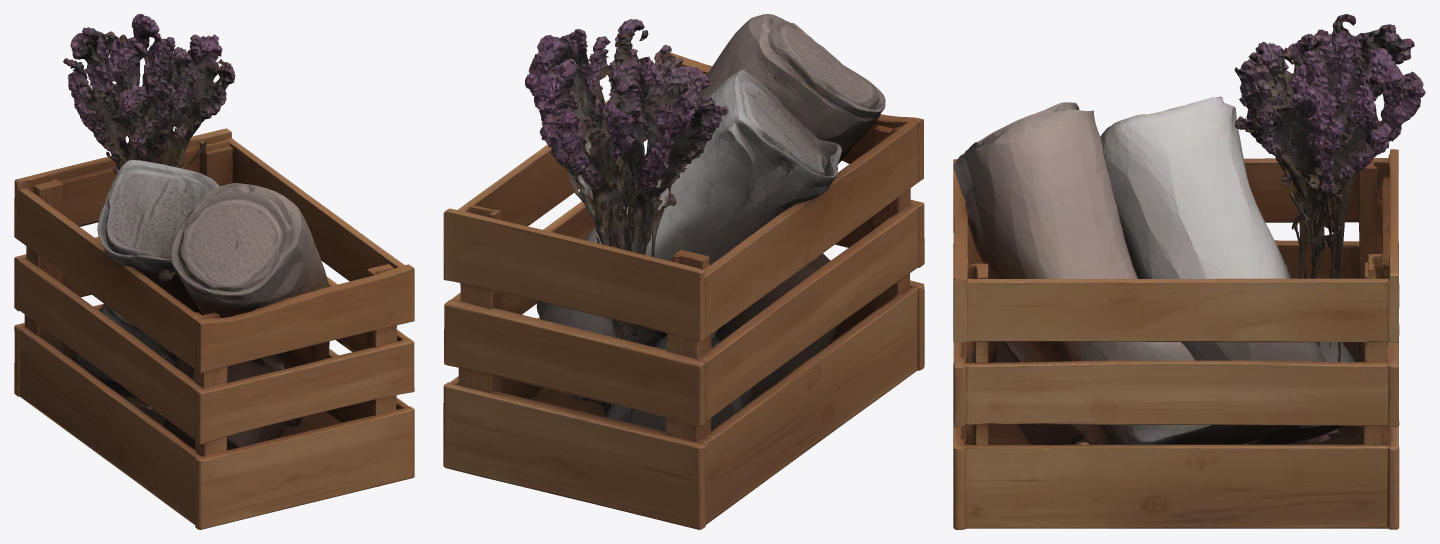
The model's file is e857e49a-ad07-467d-8657-8ecb37022001.glb.
3 views of the same model, side by side, from view 1: azimuth 30°, elevation 25°; view 2: azimuth 150°, elevation 25°; view 3: azimuth 270°, elevation 25° (orthographic). The views are drawn at different scales.
Parts seen in each view (by area): view 1: world; view 2: world; view 3: world.
Part boxes in pixels (left/top/right/bottom): world: left=14, top=14, right=414, bottom=529; world: left=443, top=14, right=924, bottom=529; world: left=953, top=14, right=1425, bottom=529.
Bounding box in the file's own units: 0.6591 × 0.9965 × 0.9979.
Materials: 1 (1 with a texture image).
